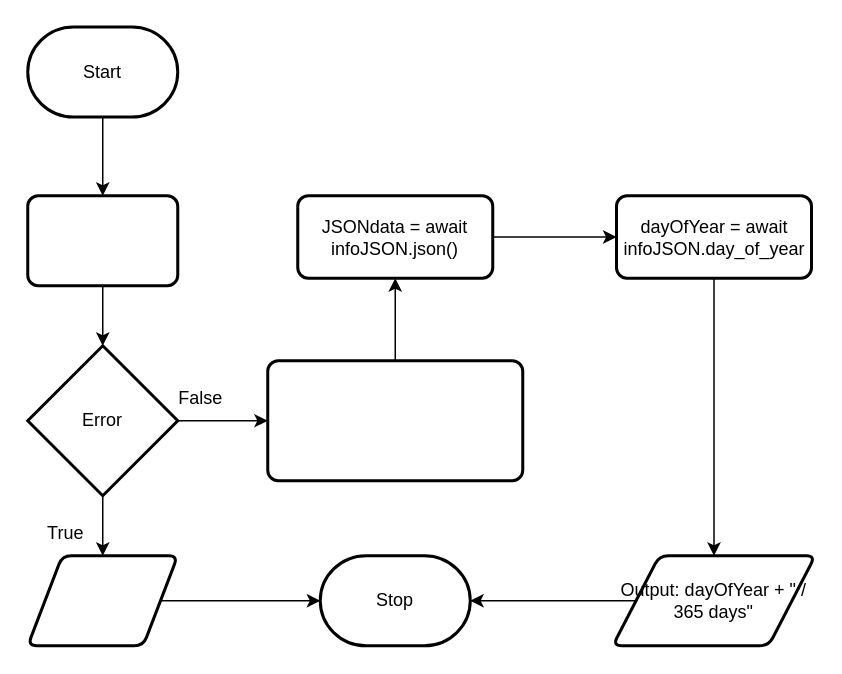
Image size: 842x674. Some labels were removed from this diagram. Each missing label, with the box of its shape:
infoJSON = await fetch (https://worldtimeapi.org/api/ timezone/America/Toronto): (266, 358, 524, 482)
Output: "Error": (26, 554, 178, 646)
Try: (26, 194, 178, 286)
